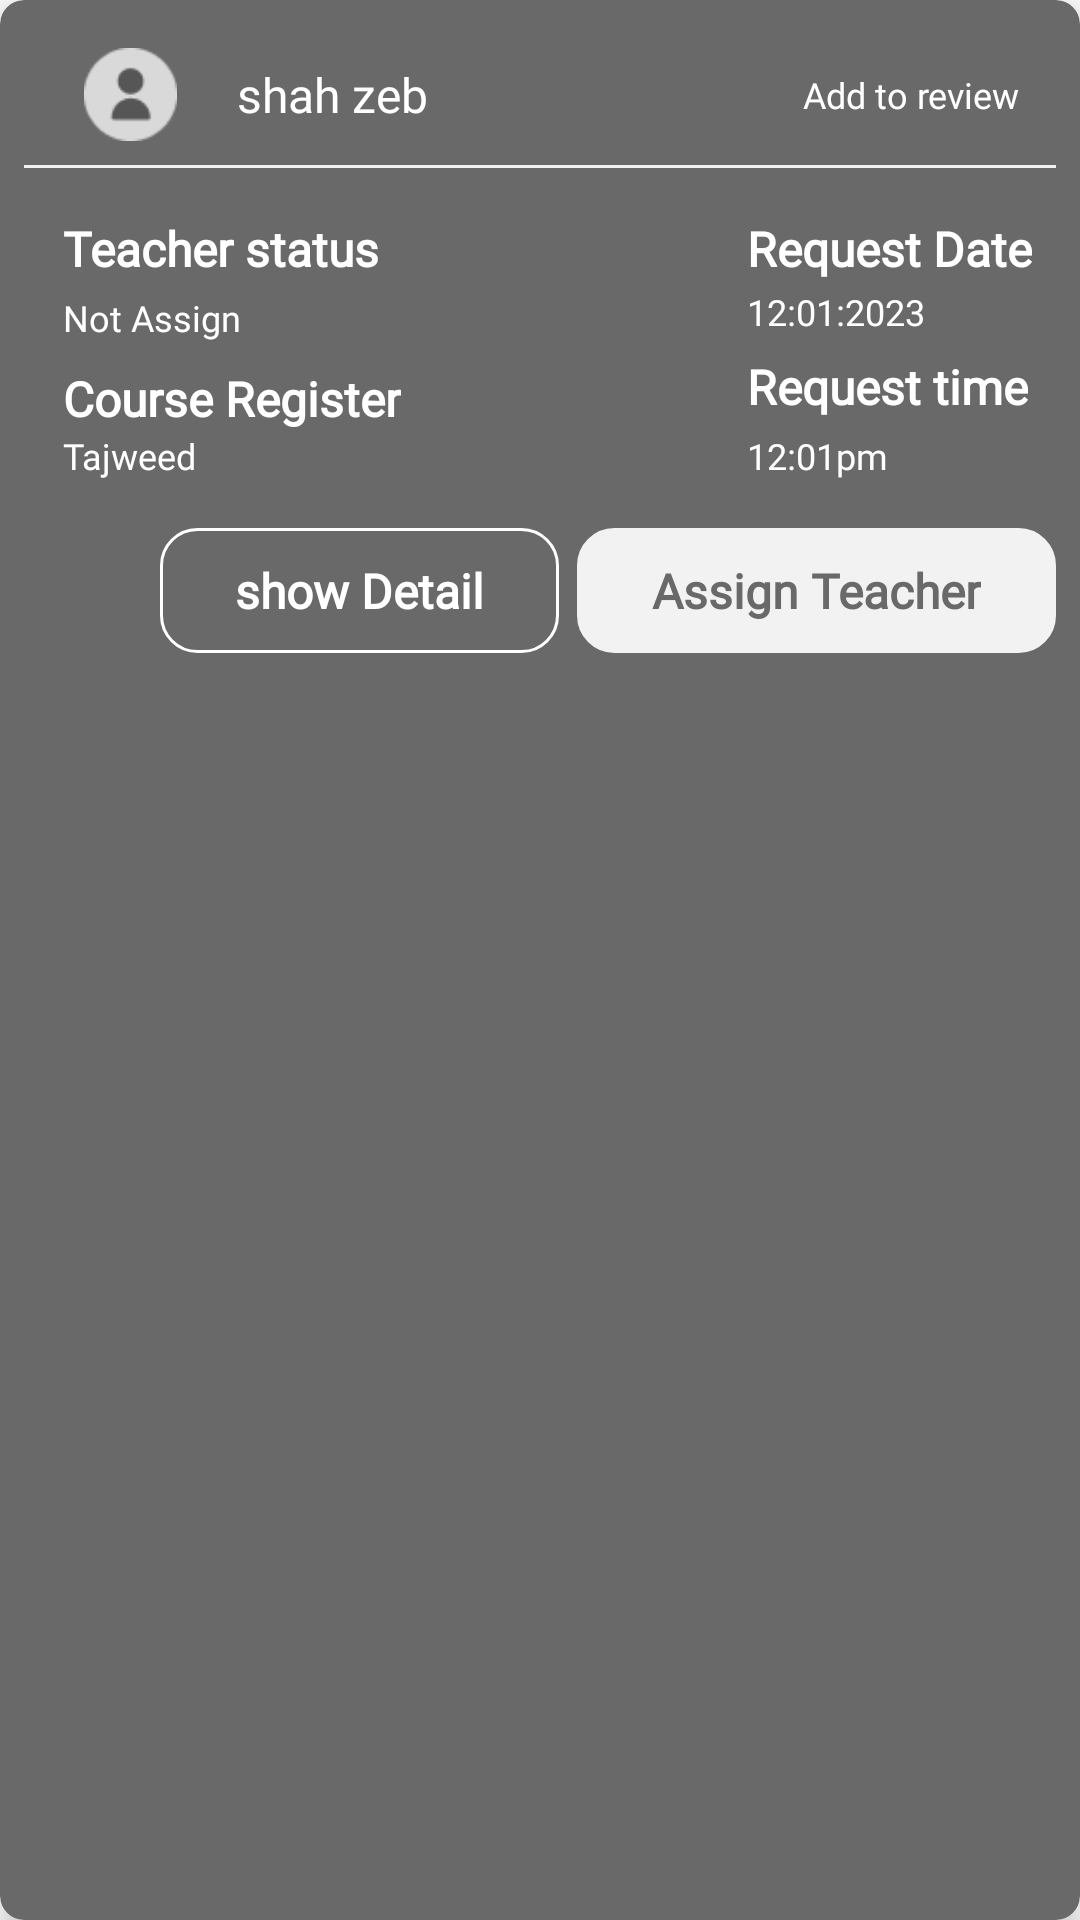

Screen size 1080w x 1920h. Icon name, then its box in pixels as (x1, y1, x2, y2):
profile: (84, 48, 177, 141)
